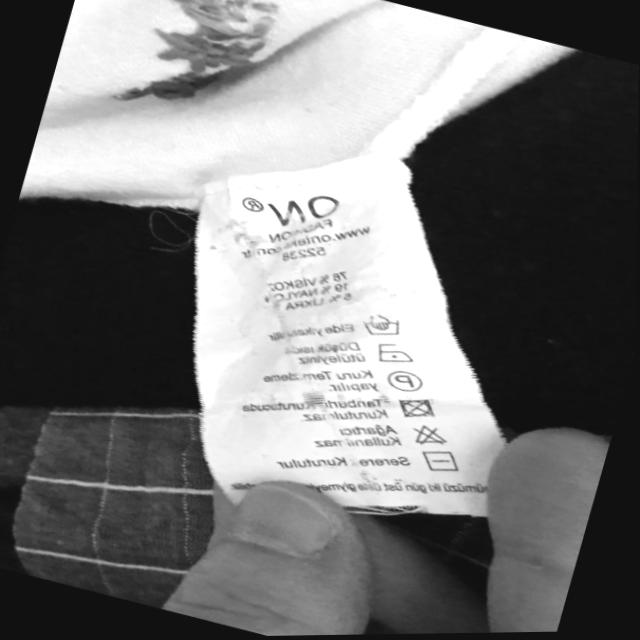DN_bleach: (412, 423, 450, 447)
DN_tumble_dry: (398, 398, 438, 420)
dry_clean_any_solvent_except_trichloroethylene: (387, 368, 425, 393)
dry_flat: (424, 449, 459, 474)
hand_wash: (363, 308, 406, 338)
iron_low: (374, 342, 417, 365)
